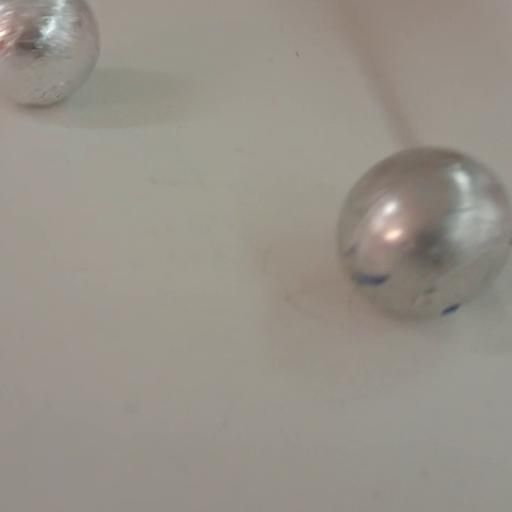alive: (330, 144, 512, 326), (1, 2, 100, 104)
